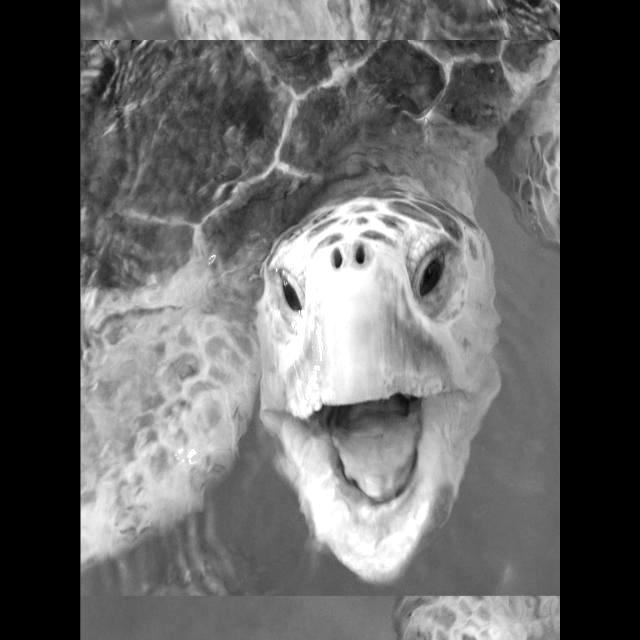Sea turtle: (84, 0, 560, 640)
